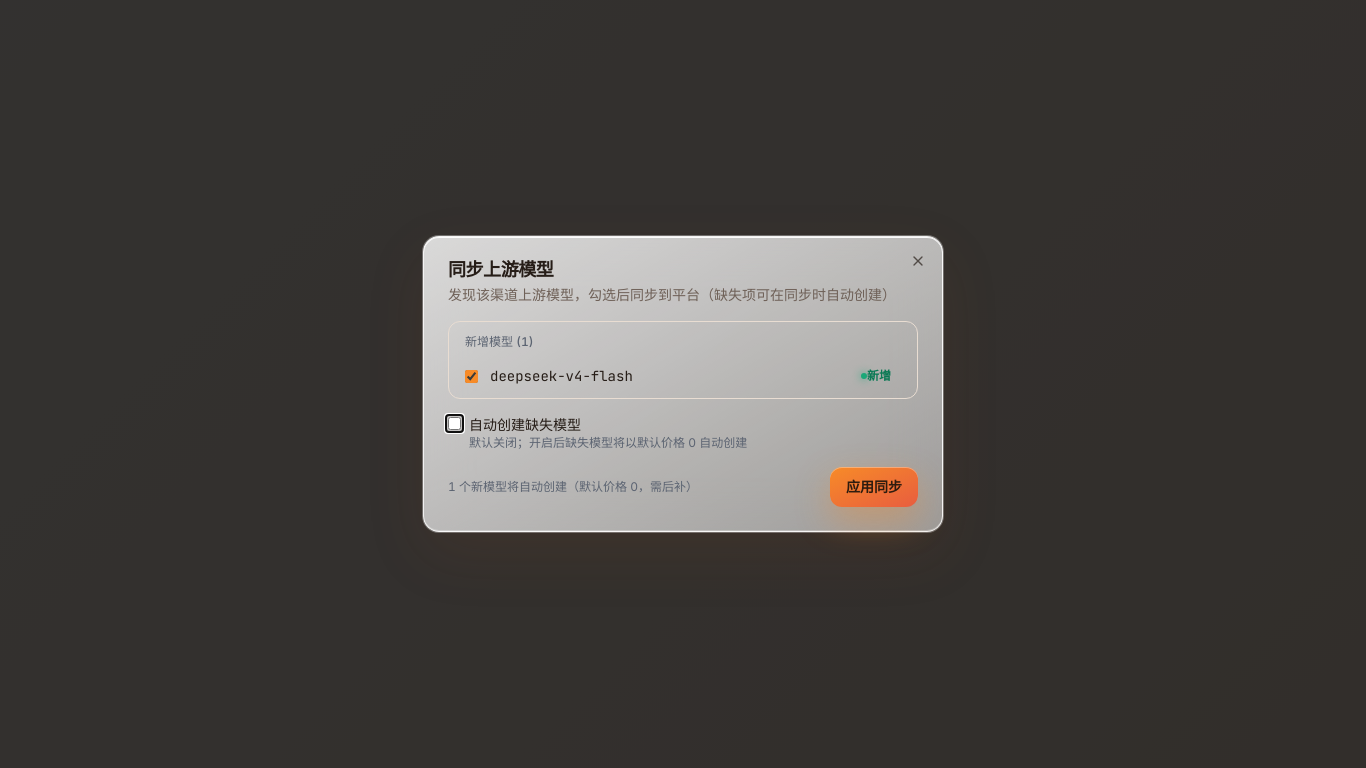
Test case: ProviderSyncDialog › disables apply when nothing is selected
Expected: the text "deepseek-v4-flash" is shown, [490,366,633,386]
Click the checkbox labelled "deepseek-v4-flash 新增" at (472, 376), box [465,370,478,382]
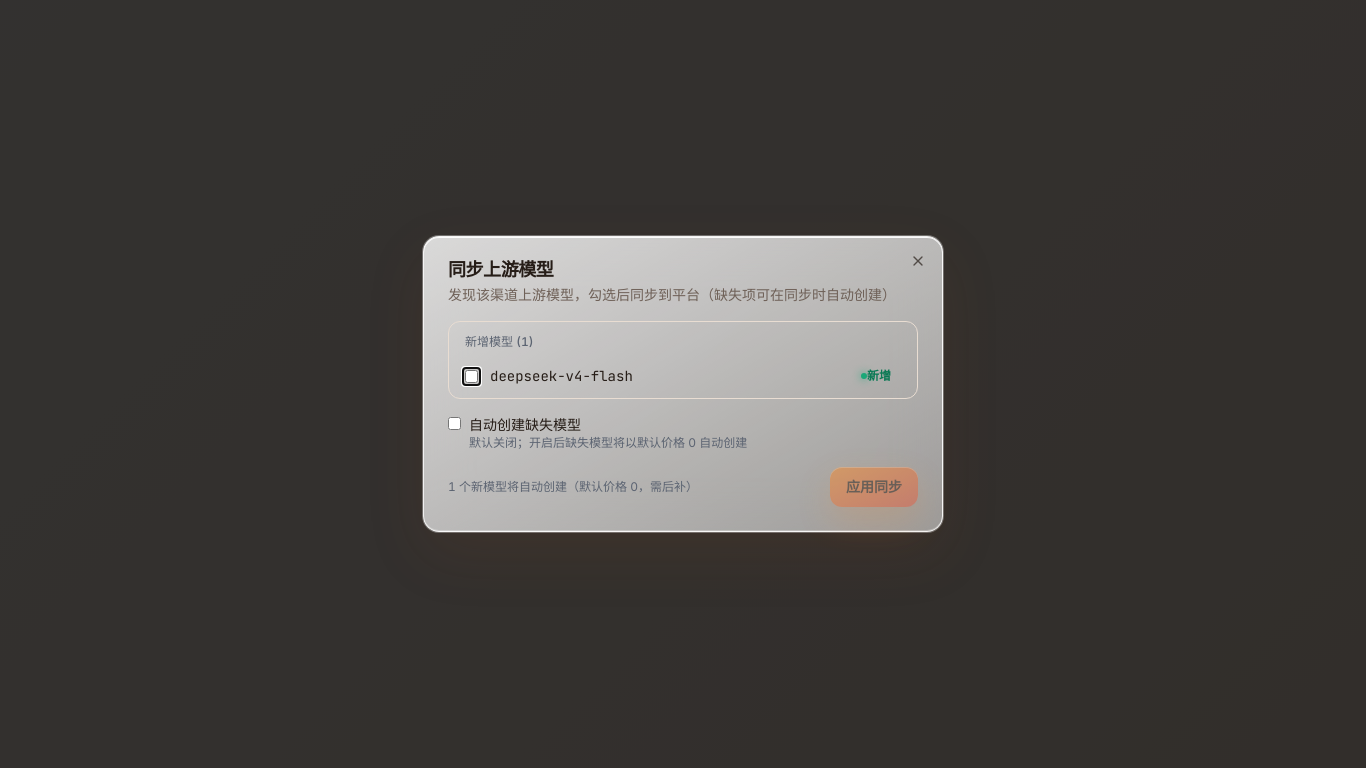
Expected: the button "应用同步" is disabled, [830,467,918,507]
